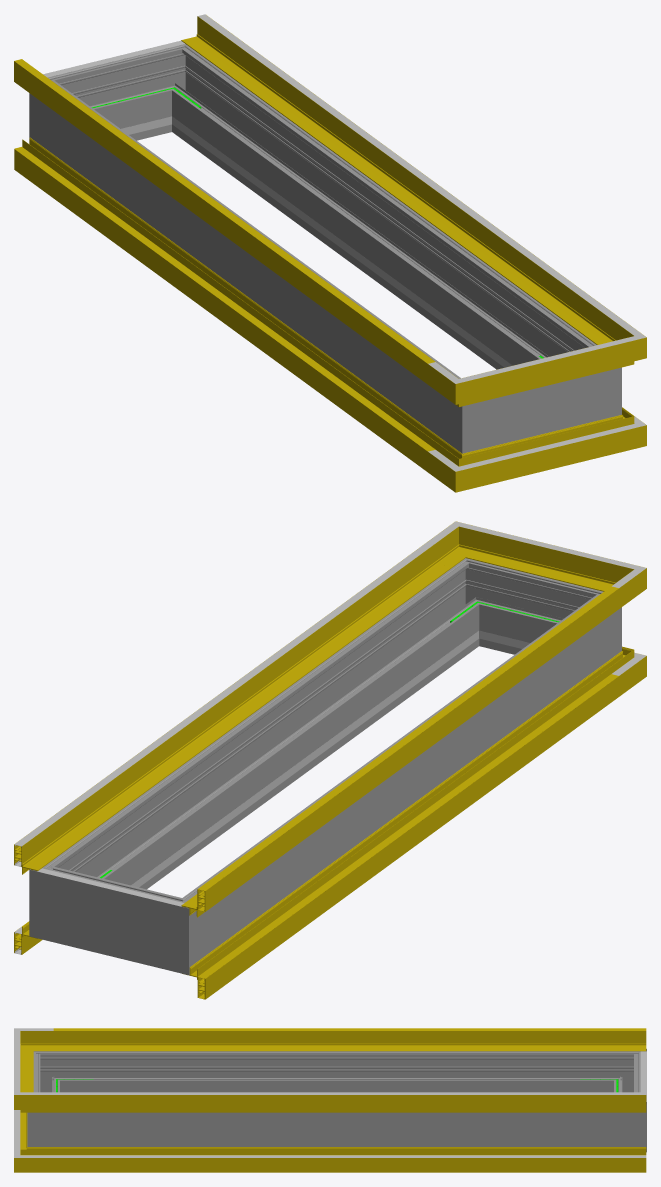
The picture shows the model from 3 angles, top to bottom: view 1: azimuth 30°, elevation 25°; view 2: azimuth 150°, elevation 25°; view 3: azimuth 270°, elevation 25°; orthographic projection. The views are drawn at different scales.
Parts seen in each view (by area): view 1: 3DGeom-297, 3DGeom-268, 3DGeom-85, 3DGeom-58, 3DGeom-50, 3DGeom-276, 3DGeom-270, 3DGeom-105, 3DGeom-71, 3DGeom-64, 3DGeom-90, 3DGeom-284 (+10 smaller); view 2: 3DGeom-297, 3DGeom-268, 3DGeom-85, 3DGeom-58, 3DGeom-50, 3DGeom-278, 3DGeom-276, 3DGeom-298, 3DGeom-284, 3DGeom-105, 3DGeom-71, 3DGeom-64 (+8 smaller); view 3: 3DGeom-268, 3DGeom-297, 3DGeom-97, 3DGeom-50, 3DGeom-58, 3DGeom-64, 3DGeom-71, 3DGeom-98, 3DGeom-284, 3DGeom-290, 3DGeom-278, 3DGeom-270 (+8 smaller).
Part boxes in pixels (x1=…): 3DGeom-297: x1=176, y1=61, x2=585, y2=369; 3DGeom-268: x1=57, y1=94, x2=449, y2=432; 3DGeom-85: x1=14, y1=137, x2=443, y2=472; 3DGeom-58: x1=181, y1=16, x2=616, y2=343; 3DGeom-50: x1=14, y1=59, x2=435, y2=384; 3DGeom-276: x1=82, y1=53, x2=163, y2=140; 3DGeom-270: x1=434, y1=370, x2=510, y2=453; 3DGeom-105: x1=14, y1=147, x2=435, y2=451; 3DGeom-71: x1=14, y1=59, x2=434, y2=363; 3DGeom-64: x1=198, y1=14, x2=618, y2=318; 3DGeom-90: x1=494, y1=422, x2=598, y2=480; 3DGeom-284: x1=145, y1=44, x2=208, y2=134; 3DGeom-297: x1=65, y1=575, x2=474, y2=889; 3DGeom-268: x1=201, y1=608, x2=594, y2=946; 3DGeom-85: x1=182, y1=664, x2=619, y2=999; 3DGeom-58: x1=14, y1=543, x2=451, y2=874; 3DGeom-50: x1=181, y1=588, x2=619, y2=917; 3DGeom-278: x1=141, y1=884, x2=216, y2=975; 3DGeom-276: x1=77, y1=874, x2=149, y2=963; 3DGeom-298: x1=487, y1=568, x2=569, y2=654; 3DGeom-284: x1=29, y1=851, x2=85, y2=947; 3DGeom-105: x1=198, y1=674, x2=618, y2=980; 3DGeom-71: x1=197, y1=586, x2=618, y2=892; 3DGeom-64: x1=14, y1=541, x2=435, y2=847; 3DGeom-268: x1=66, y1=1051, x2=607, y2=1092; 3DGeom-297: x1=66, y1=1112, x2=607, y2=1146; 3DGeom-97: x1=53, y1=1147, x2=646, y2=1172; 3DGeom-50: x1=53, y1=1031, x2=646, y2=1051; 3DGeom-58: x1=53, y1=1095, x2=646, y2=1112; 3DGeom-64: x1=53, y1=1092, x2=646, y2=1094; 3DGeom-71: x1=53, y1=1028, x2=646, y2=1030; 3DGeom-98: x1=53, y1=1155, x2=646, y2=1157; 3DGeom-284: x1=607, y1=1087, x2=646, y2=1152; 3DGeom-290: x1=27, y1=1087, x2=66, y2=1146; 3DGeom-278: x1=607, y1=1048, x2=646, y2=1092; 3DGeom-270: x1=33, y1=1051, x2=66, y2=1092.
Size of the model in its own units: 0.6096 by 0.3303 by 2.44.
